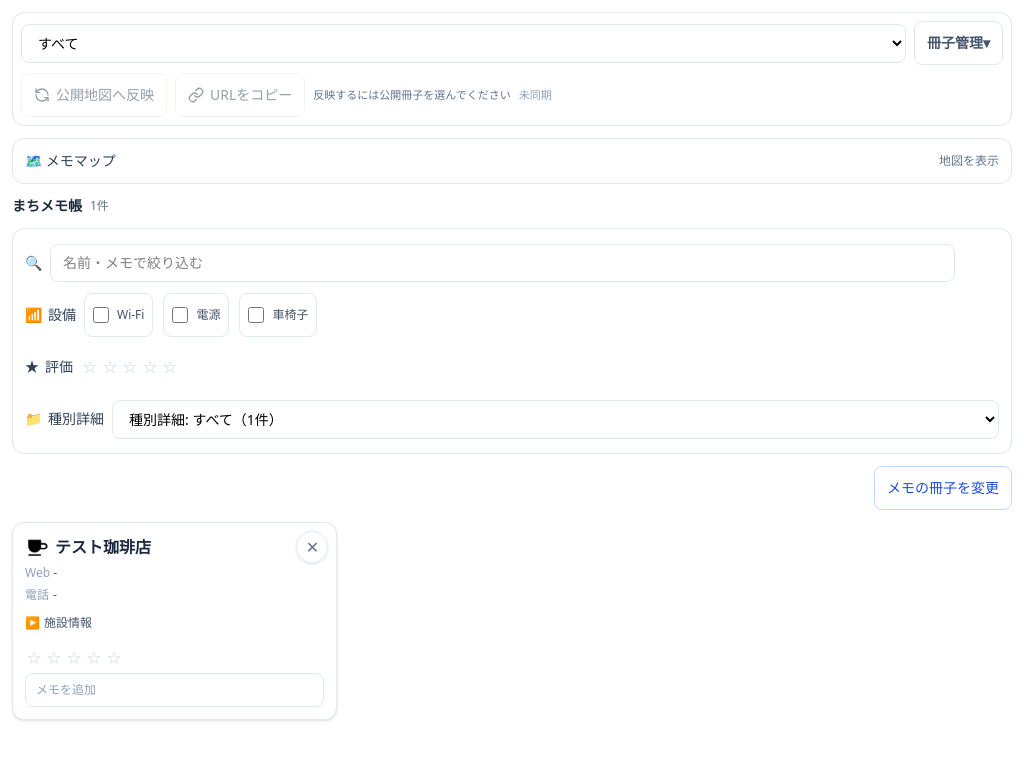
Test: 公開マップのURLをコピー › ユーザーIDが未保存なら案内が出てコピーされない（入力欄は無い）
The width and height of the screenshot is (1024, 768).
Select "デフォルト（公開）" in the dropdown named "スクラップブック". click: coordinates (464, 43)
box: [21, 24, 906, 62]
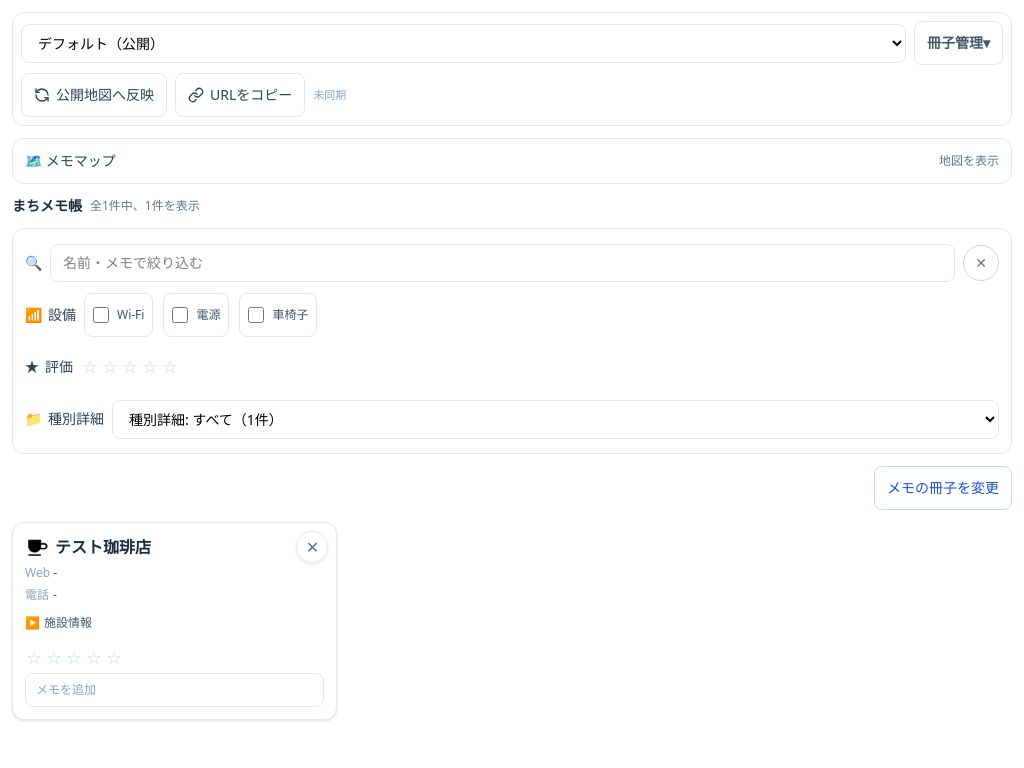
Click the button "URLをコピー". click: coordinates (240, 95)
box: [175, 73, 305, 117]
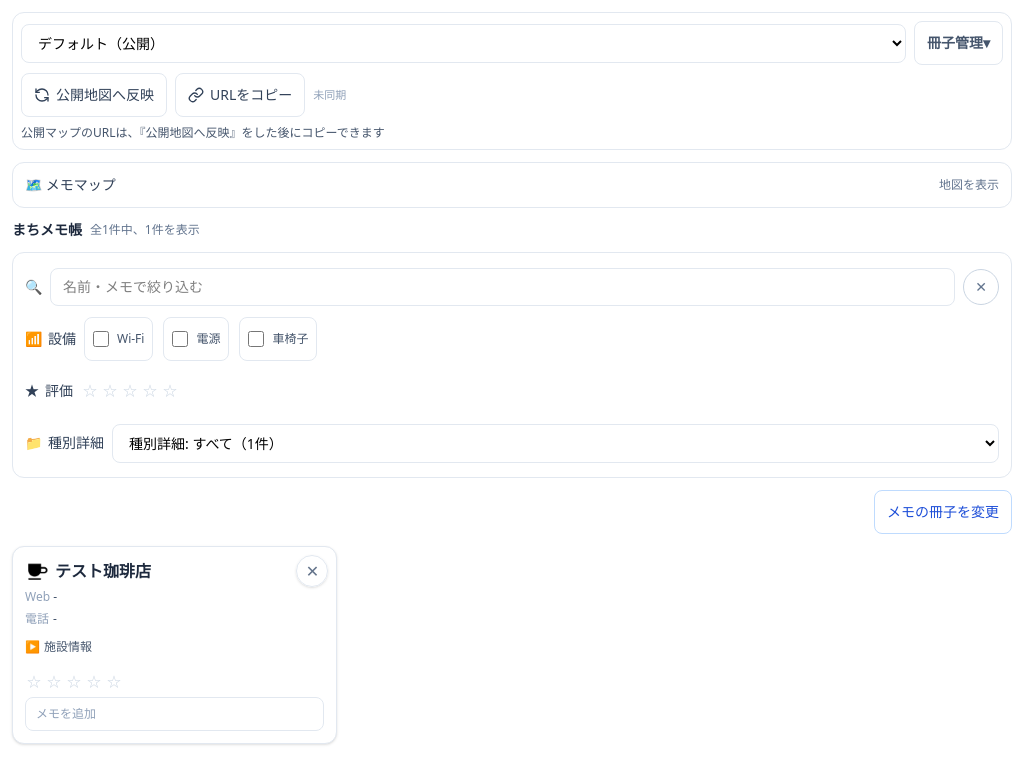
Expected: the text "未同期" is shown, [313, 87, 346, 103]
Now the message reads "公開マップのURLは、『公開地図へ反映』をした後にコピーできます", box [21, 124, 385, 141]
